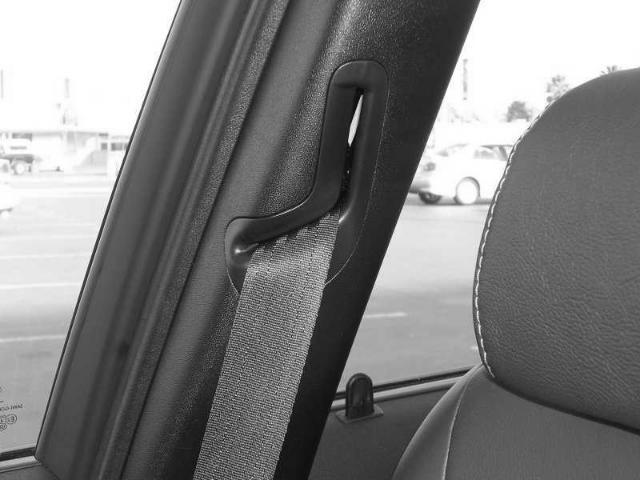Seatbelt: (187, 200, 347, 480)
